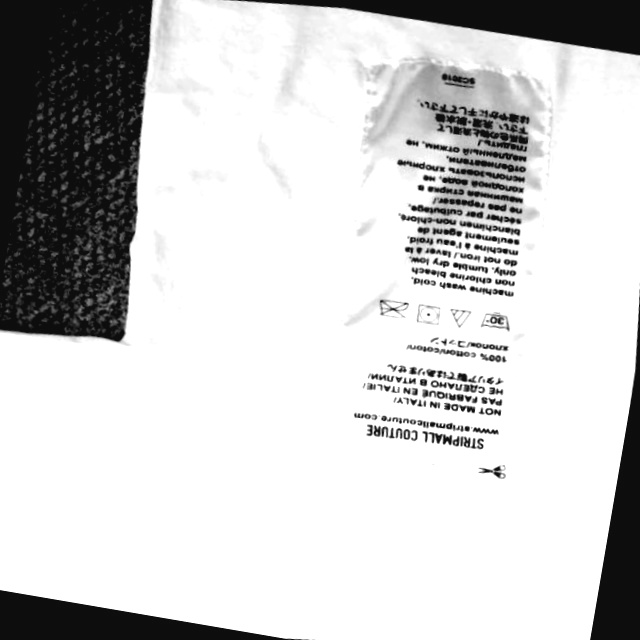30C: (476, 306, 517, 336)
DN_iron: (370, 292, 412, 327)
non_chlorine_bleach: (445, 303, 476, 331)
tumble_dry_low: (411, 299, 449, 329)
